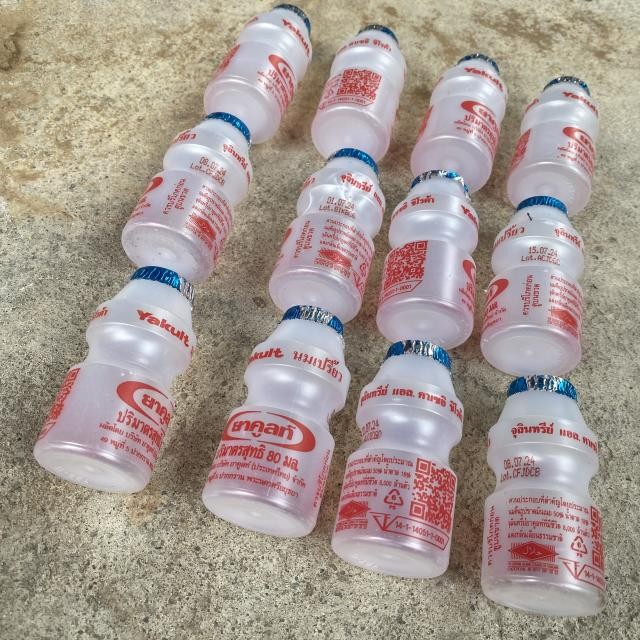Single-Use-Plastic: (35, 268, 196, 492), (202, 306, 350, 536), (331, 340, 464, 578), (481, 375, 605, 616), (121, 112, 252, 284), (269, 149, 385, 322), (480, 196, 585, 376), (376, 170, 479, 350), (204, 4, 312, 144), (410, 54, 508, 192), (506, 76, 600, 215), (311, 25, 406, 161)
